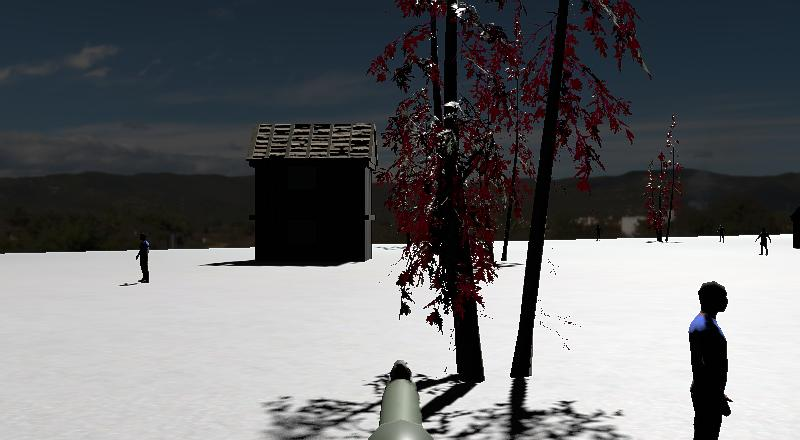House: (229, 99, 397, 286)
Human: (665, 268, 757, 440), (752, 223, 779, 262), (714, 219, 732, 248)
